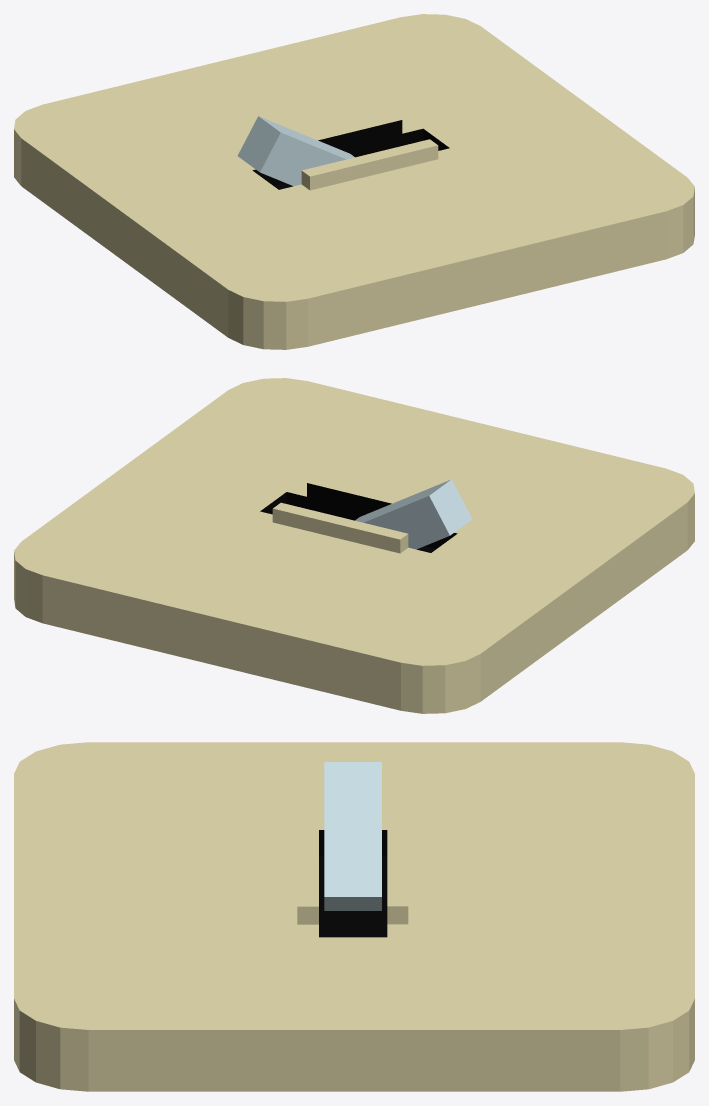
File: LightTrigger.fbx
The picture shows the model from 3 angles, top to bottom: view 1: azimuth 30°, elevation 25°; view 2: azimuth 150°, elevation 25°; view 3: azimuth 270°, elevation 25°; orthographic projection. The views are drawn at different scales.
Parts seen in each view (by area): view 1: Cube, Cube.001; view 2: Cube, Cube.001; view 3: Cube, Cube.001.
Boxes of the visible parts, <box> form: Cube: <box>14,14,694,349</box>; Cube.001: <box>237,116,354,186</box>; Cube: <box>14,378,694,713</box>; Cube.001: <box>355,479,472,549</box>; Cube: <box>14,742,694,1091</box>; Cube.001: <box>324,762,381,910</box>.
Bounding box in the file's own units: 200 × 42.83 × 200.
